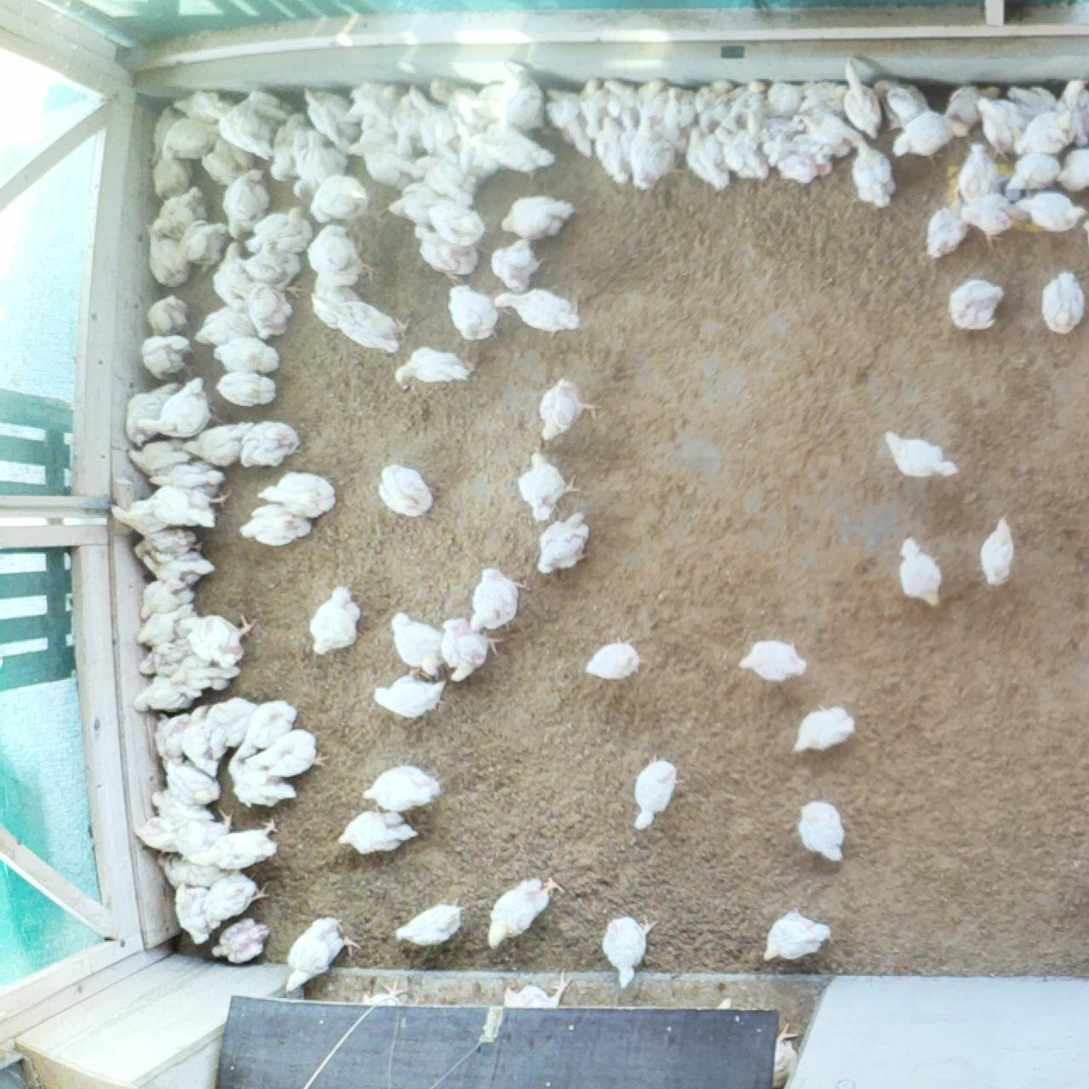chicken: (486, 870, 569, 957), (277, 912, 362, 992), (305, 289, 412, 352), (302, 219, 379, 295), (512, 448, 581, 525), (597, 906, 659, 991), (391, 339, 483, 396), (241, 725, 332, 782), (751, 904, 834, 966), (256, 461, 340, 522), (392, 888, 472, 952), (463, 115, 556, 170), (175, 608, 261, 667), (198, 813, 283, 872), (876, 425, 962, 483), (142, 376, 216, 443), (492, 286, 587, 338), (467, 560, 531, 637), (223, 751, 299, 814), (440, 611, 503, 687), (537, 373, 603, 445), (202, 865, 273, 931), (535, 507, 599, 579), (237, 235, 310, 298), (142, 478, 231, 529), (305, 582, 364, 658), (369, 667, 449, 723), (334, 803, 418, 856), (786, 697, 861, 756), (409, 224, 484, 283), (355, 119, 420, 187), (202, 99, 273, 161), (630, 751, 683, 834), (227, 278, 295, 341), (362, 759, 447, 809), (236, 696, 302, 760), (445, 275, 502, 349), (390, 610, 452, 678), (478, 60, 547, 120), (126, 379, 182, 452), (298, 84, 358, 152), (793, 796, 850, 867), (242, 200, 315, 255), (961, 189, 1019, 258), (206, 913, 276, 970), (374, 459, 439, 520), (625, 114, 677, 190), (237, 498, 314, 549), (889, 107, 972, 154), (499, 193, 580, 241), (897, 533, 948, 609), (733, 635, 813, 683), (172, 805, 237, 864), (544, 85, 595, 160), (948, 274, 1008, 337), (182, 419, 256, 469), (238, 415, 302, 472), (292, 132, 349, 195), (140, 221, 191, 291), (1012, 187, 1089, 233), (203, 697, 261, 758), (424, 196, 489, 250), (305, 168, 372, 220), (584, 630, 647, 685), (157, 113, 221, 167), (844, 58, 886, 140), (405, 81, 457, 147), (1040, 268, 1089, 338), (227, 166, 272, 242), (502, 966, 581, 1009), (850, 138, 895, 212), (977, 512, 1020, 589), (175, 215, 233, 272), (158, 757, 224, 807), (485, 238, 547, 291), (590, 112, 635, 185), (1014, 103, 1077, 155), (146, 457, 229, 496), (179, 702, 222, 777), (170, 878, 216, 948), (151, 181, 210, 235), (684, 125, 730, 194), (414, 152, 475, 204), (209, 241, 256, 308), (922, 194, 968, 262), (166, 654, 244, 694), (802, 105, 869, 151), (211, 335, 282, 378), (132, 605, 198, 651), (975, 93, 1026, 152), (138, 548, 214, 587), (717, 122, 767, 181), (876, 79, 928, 134), (132, 634, 195, 679), (137, 576, 196, 624), (946, 80, 1005, 128), (431, 72, 483, 126), (346, 78, 411, 121), (213, 368, 281, 409), (134, 329, 194, 375), (106, 494, 167, 539), (383, 179, 444, 224), (194, 301, 257, 344), (147, 136, 192, 196), (271, 113, 311, 180), (1007, 150, 1066, 194), (958, 140, 1003, 197), (124, 437, 191, 475), (133, 677, 192, 720), (163, 851, 224, 892), (142, 100, 177, 171), (1055, 75, 1089, 148), (201, 135, 251, 184), (152, 708, 196, 763), (172, 85, 233, 124), (145, 291, 193, 338), (1007, 81, 1056, 127), (126, 812, 179, 854), (147, 786, 212, 820), (768, 1019, 799, 1089), (131, 526, 200, 557), (699, 74, 737, 128), (742, 107, 806, 139), (729, 78, 769, 126), (604, 75, 642, 124), (804, 76, 847, 117), (582, 70, 607, 138), (637, 75, 673, 122), (243, 88, 294, 120), (777, 151, 821, 187), (1057, 143, 1089, 191), (769, 79, 814, 112), (665, 84, 696, 129), (659, 117, 689, 161), (761, 136, 792, 171)
